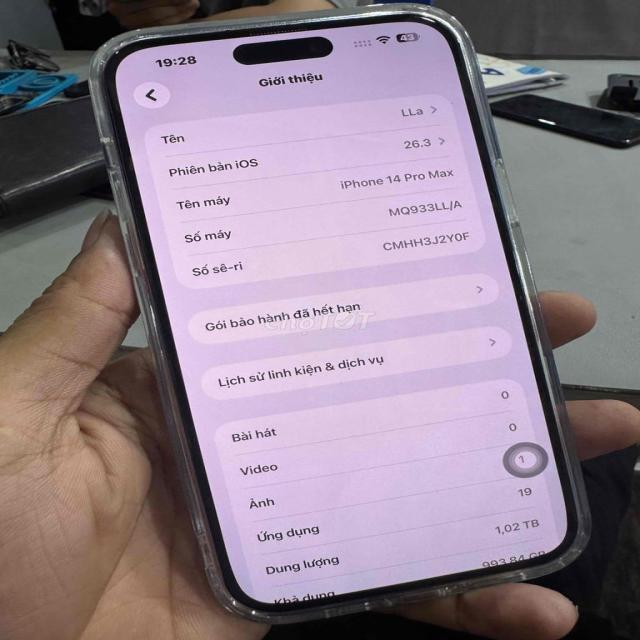gen_14: (90, 2, 594, 627)
